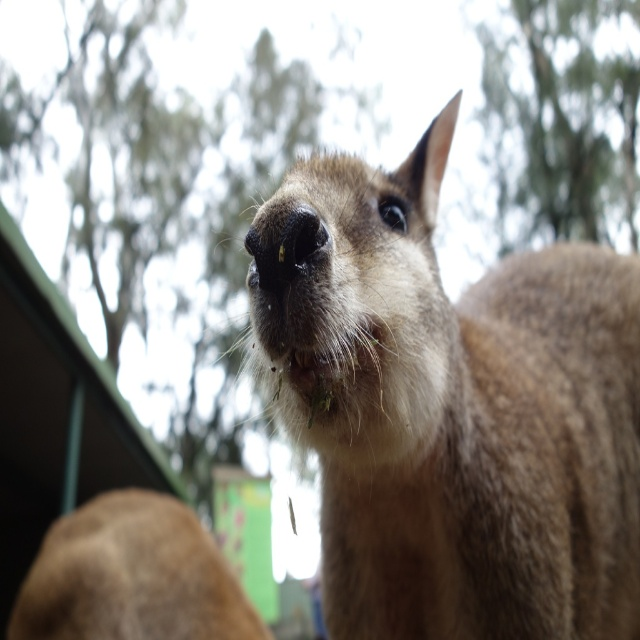Kangaroo: (210, 89, 640, 640)
